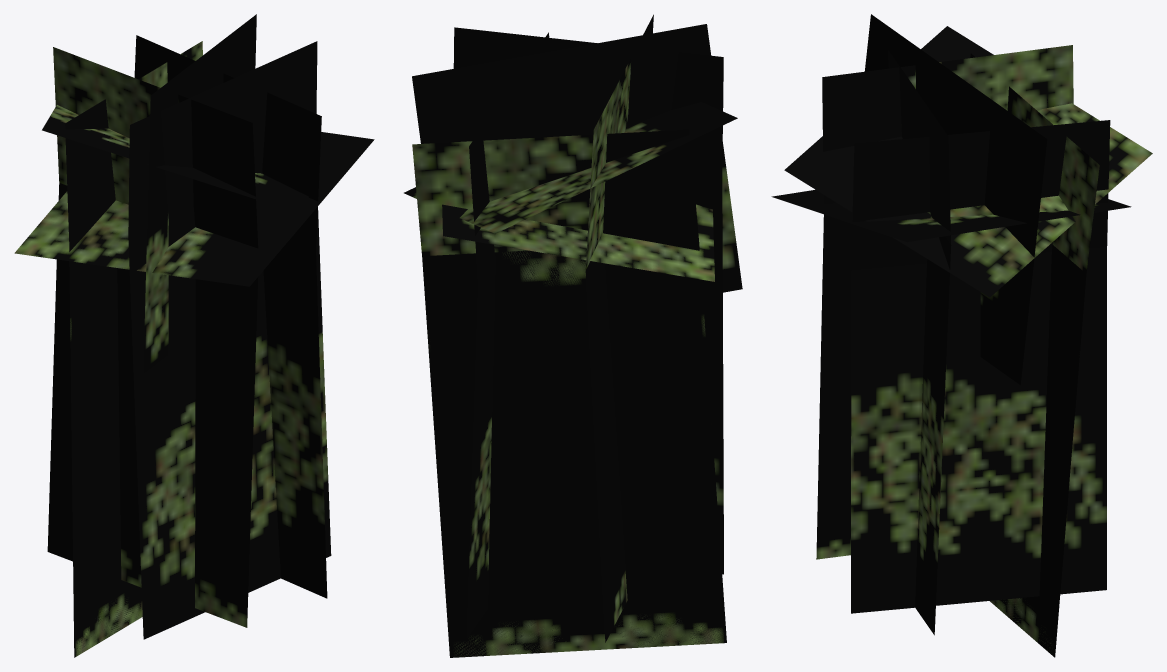
Rendered from birch_leaves_slab_3.obj.
3 renders of one model, left to right at view 1: azimuth 30°, elevation 25°; view 2: azimuth 150°, elevation 25°; view 3: azimuth 270°, elevation 25°, orthographic. The views are drawn at different scales.
Parts seen in each view (by area): view 1: south, east, west, north, bottom, top; view 2: west, south, east, north, bottom, top; view 3: north, south, west, top, east, bottom.
Boxes of the visible parts, x1=… form: south: x1=47, y1=14, x2=258, y2=627; east: x1=128, y1=41, x2=331, y2=639; west: x1=65, y1=41, x2=202, y2=657; north: x1=134, y1=35, x2=327, y2=598; bottom: x1=14, y1=132, x2=374, y2=286; top: x1=42, y1=105, x2=308, y2=212; west: x1=412, y1=129, x2=726, y2=657; south: x1=412, y1=14, x2=742, y2=642; east: x1=453, y1=27, x2=723, y2=574; north: x1=467, y1=32, x2=549, y2=637; bottom: x1=442, y1=204, x2=714, y2=281; top: x1=404, y1=102, x2=737, y2=233; north: x1=851, y1=120, x2=1110, y2=613; south: x1=816, y1=14, x2=1073, y2=559; west: x1=970, y1=53, x2=1099, y2=657; top: x1=784, y1=26, x2=1152, y2=297; east: x1=887, y1=49, x2=951, y2=635; bottom: x1=771, y1=189, x2=1131, y2=242.
Bounding box in the file's own units: 2.01 × 3.59 × 2.18.
